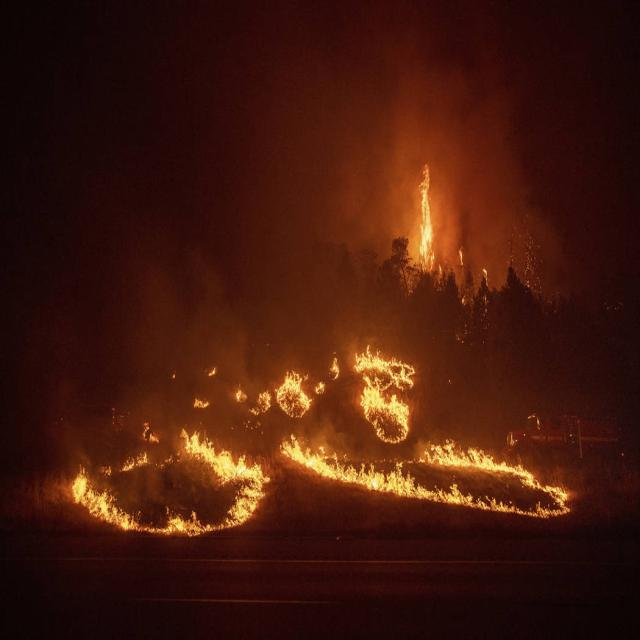fire: (293, 451, 417, 503), (422, 480, 574, 518), (358, 346, 412, 444), (182, 430, 270, 484), (74, 470, 137, 530), (423, 441, 522, 479), (276, 365, 314, 418), (163, 511, 209, 536), (226, 493, 264, 523)
